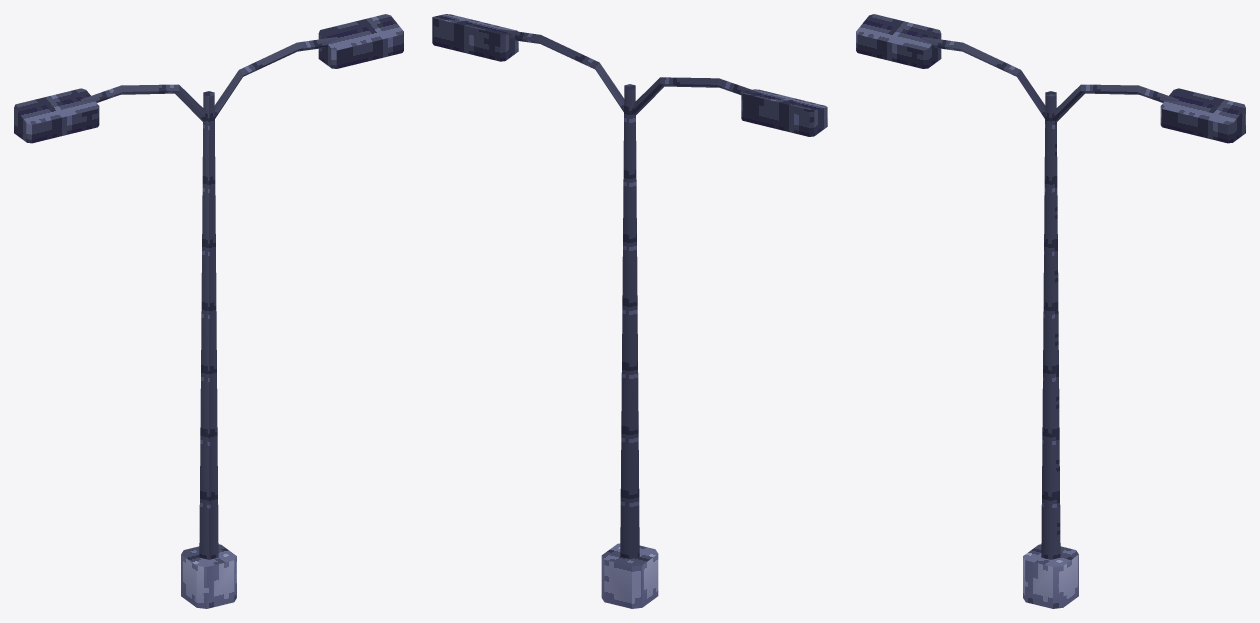
The model's file is cytech.street_light__double.glb.
The picture shows the model from 3 angles, left to right: view 1: azimuth 30°, elevation 25°; view 2: azimuth 150°, elevation 25°; view 3: azimuth 330°, elevation 25°; orthographic projection.
Parts seen in each view (by area): view 1: kit_pole; view 2: kit_pole; view 3: kit_pole.
Boxes of the visible parts, box(x1,y1,x2,y2) form: kit_pole: box(14, 14, 403, 608); kit_pole: box(432, 14, 827, 608); kit_pole: box(856, 14, 1245, 608).
Size of the model in its own units: 4.7 by 6.35 by 0.5.
5 materials, 5 textured.
